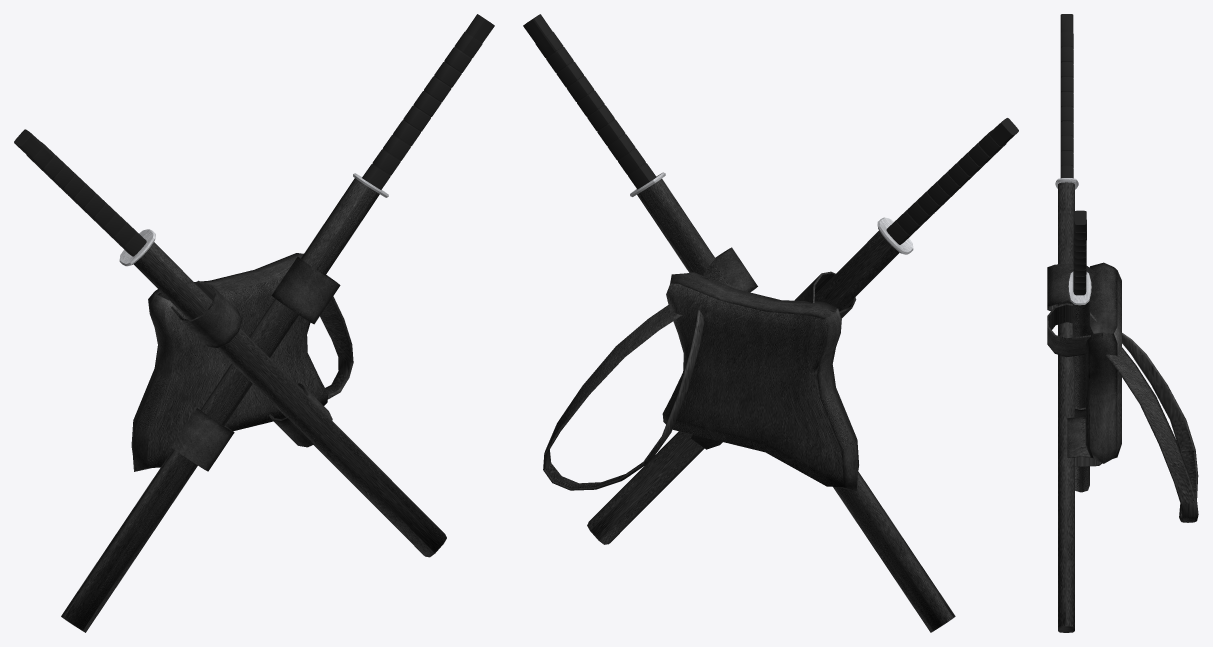
The model's file is katanas.glb.
3 views of the same model, side by side, from view 1: azimuth 30°, elevation 25°; view 2: azimuth 150°, elevation 25°; view 3: azimuth 270°, elevation 25° (orthographic). The views are drawn at different scales.
Visible parts, largest first — view 1: Pack, Sword003_13 - Default_0, Sword2_13 - Default_0; view 2: Pack, Sword003_13 - Default_0, Sword2_13 - Default_0; view 3: Pack, Sword2_13 - Default_0, Sword003_13 - Default_0, Sword003_08 - Default_0.
Part boxes in pixels (bbox=[...]): Pack: bbox=[61, 178, 446, 632]; Sword003_13 - Default_0: bbox=[362, 14, 494, 189]; Sword2_13 - Default_0: bbox=[14, 129, 146, 256]; Pack: bbox=[543, 179, 955, 632]; Sword003_13 - Default_0: bbox=[523, 14, 656, 189]; Sword2_13 - Default_0: bbox=[886, 118, 1018, 244]; Pack: bbox=[1047, 182, 1198, 632]; Sword2_13 - Default_0: bbox=[1060, 14, 1073, 178]; Sword003_13 - Default_0: bbox=[1073, 210, 1086, 295]; Sword003_08 - Default_0: bbox=[1068, 271, 1091, 305].
Size of the model in its own units: 8102 by 8339 by 2530.
4 materials, 3 textured.
